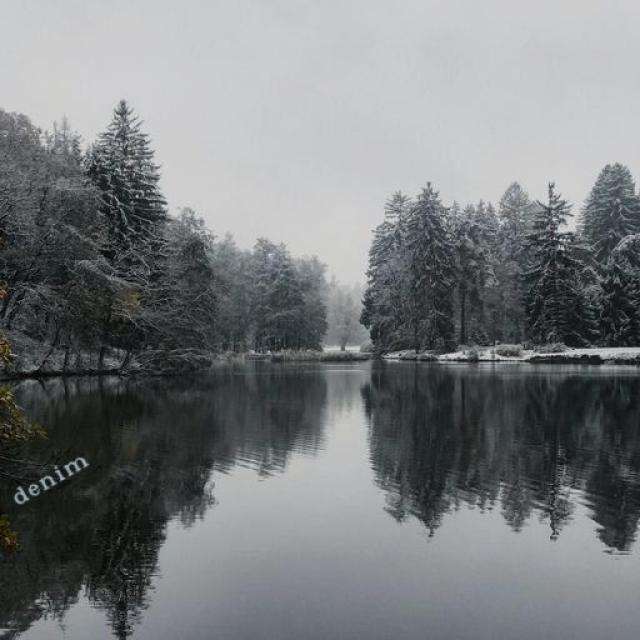watermark: (10, 446, 90, 508)
